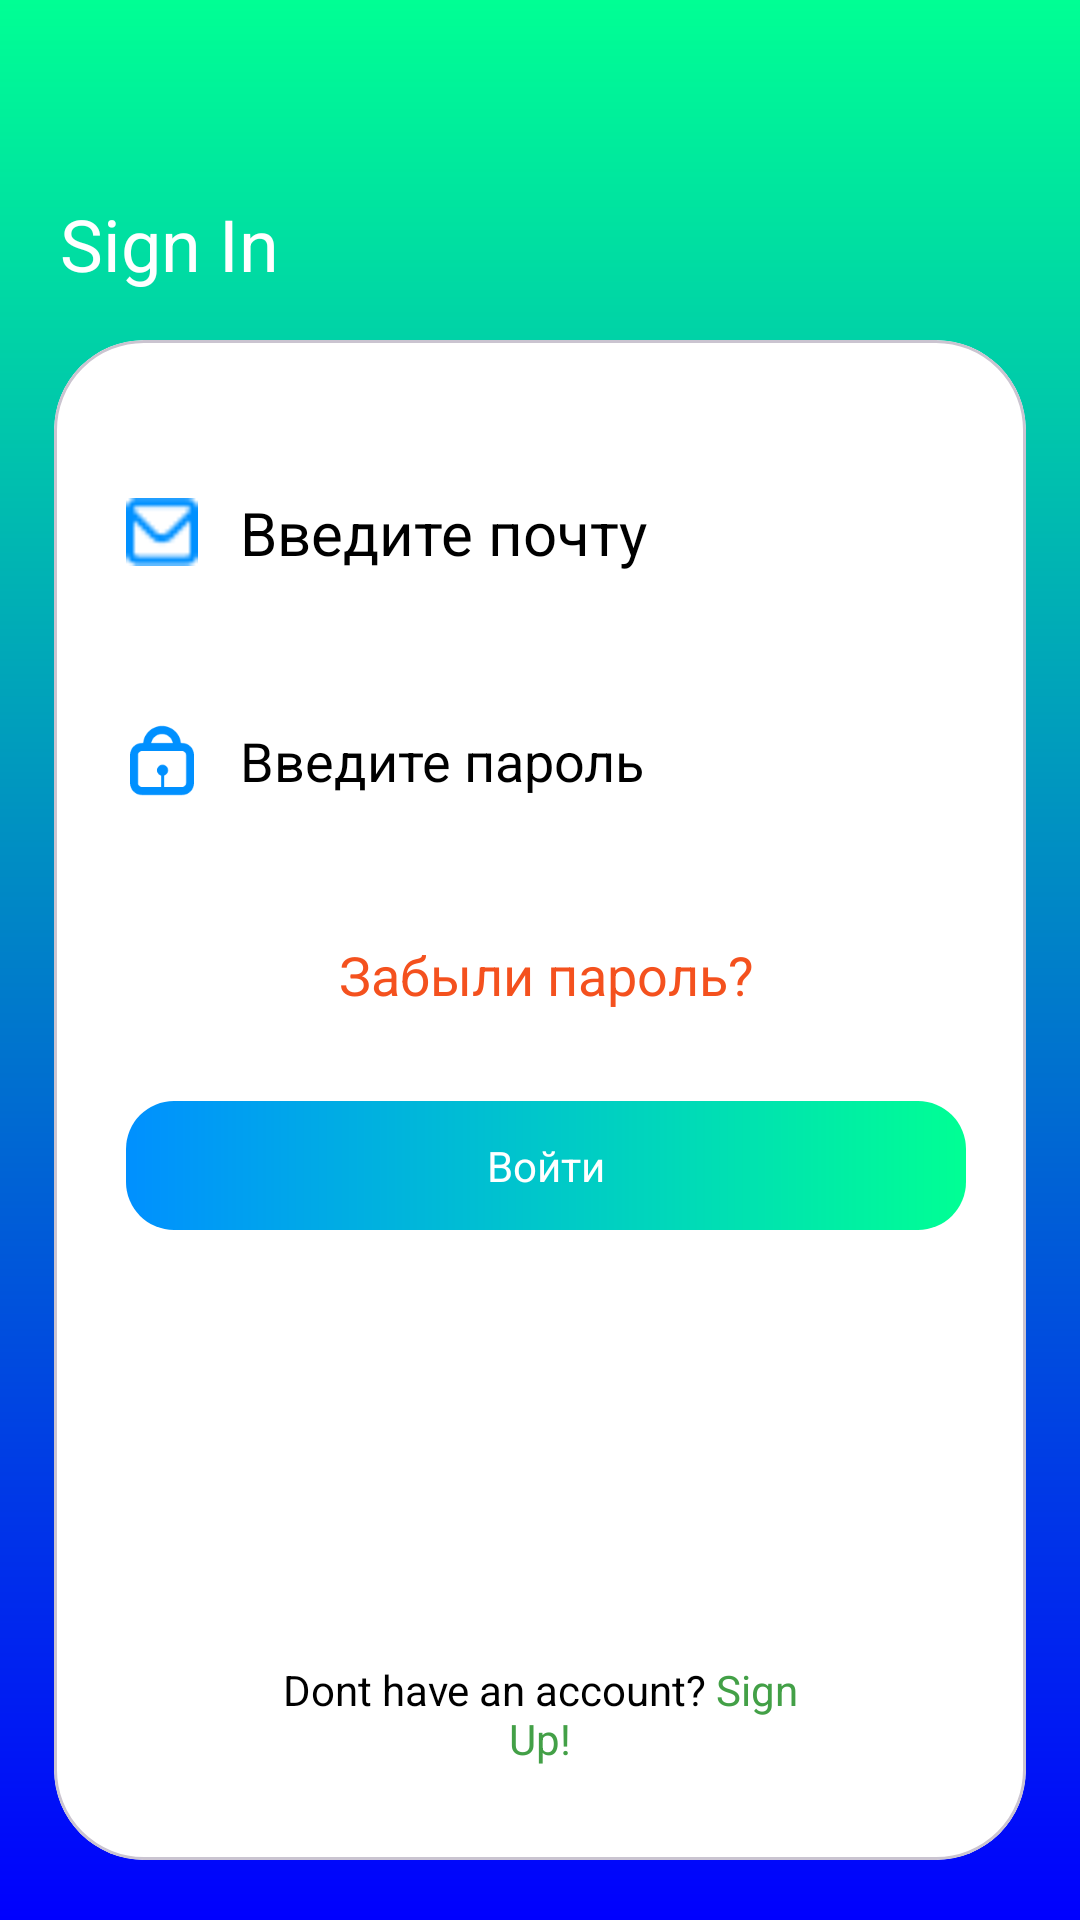

Point at icon controls on the screen. Image size 1080 x 1920, points as (x=x, y=y).
email: (x=162, y=532)
password: (x=162, y=760)
